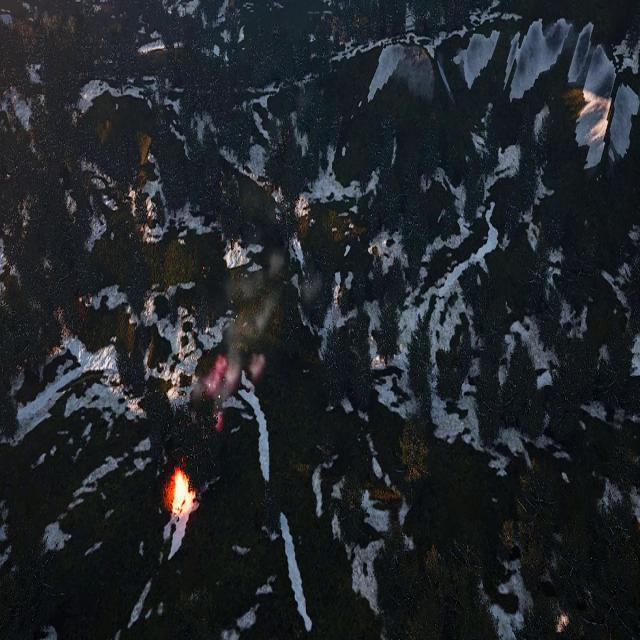fire: (172, 470, 195, 514)
smoke: (194, 242, 322, 434)
